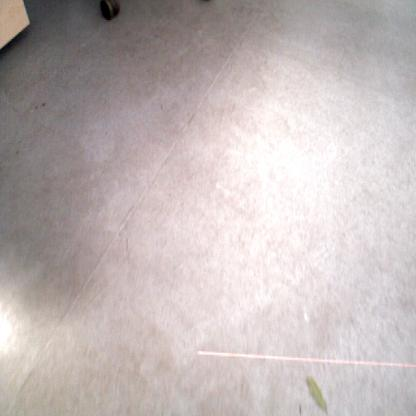dirty: (305, 375, 329, 415)
mark: (186, 112, 196, 126), (125, 236, 129, 251), (40, 100, 47, 108), (298, 403, 302, 416), (159, 102, 164, 112), (14, 149, 20, 155), (34, 104, 38, 111)
